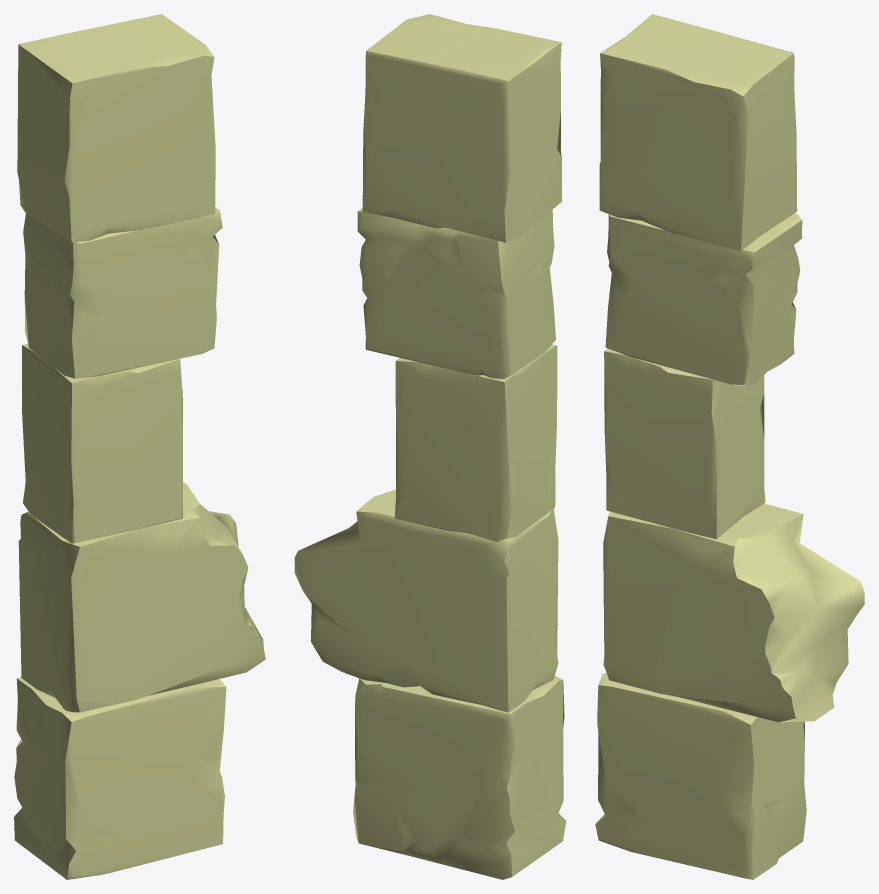
Rendered from stone_element_20_lintel_09.fbx.
3 views of the same model, side by side, from view 1: azimuth 30°, elevation 25°; view 2: azimuth 150°, elevation 25°; view 3: azimuth 330°, elevation 25° (orthographic).
Visible parts, largest first — view 1: stone_element_20_lintel_09_LOD0; view 2: stone_element_20_lintel_09_LOD0; view 3: stone_element_20_lintel_09_LOD0.
Boxes of the visible parts, box(x1,y1,x2,y2) form: stone_element_20_lintel_09_LOD0: box(14, 14, 265, 879); stone_element_20_lintel_09_LOD0: box(294, 14, 566, 879); stone_element_20_lintel_09_LOD0: box(595, 14, 864, 879).
Size of what is drawn, in the model's own units: 72.97 by 254 by 33.07.
